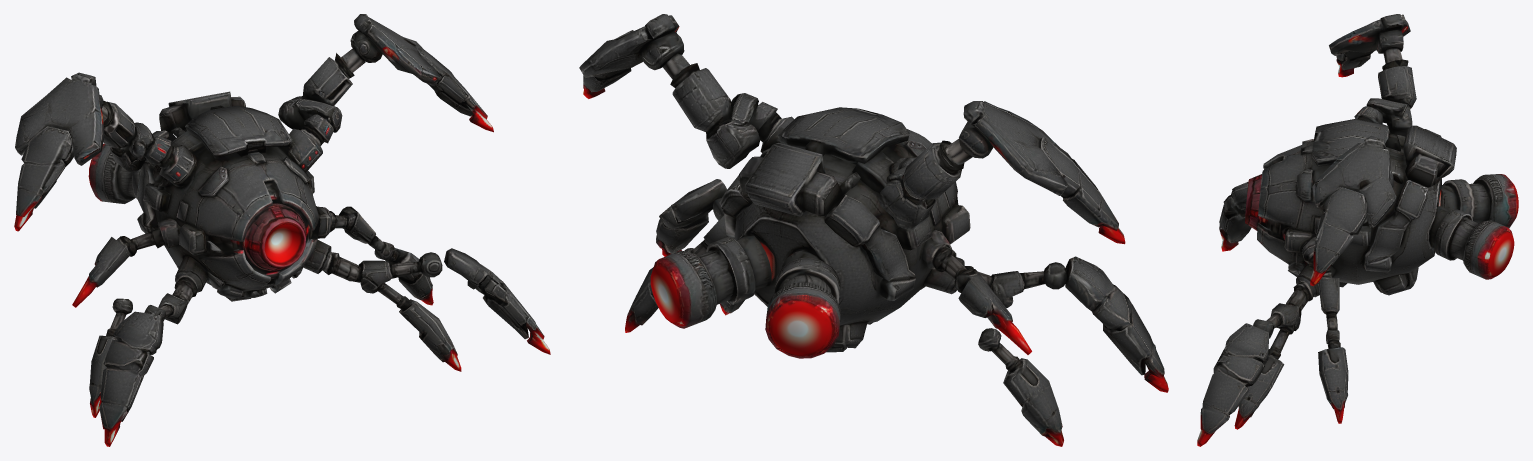
Rendered from drone.glb.
3 views of the same model, side by side, from view 1: azimuth 30°, elevation 25°; view 2: azimuth 150°, elevation 25°; view 3: azimuth 270°, elevation 25° (orthographic). The views are drawn at different scales.
Visible parts, largest first — view 1: tripo_node_e7bc2fcc-5555-41ec-90af-af07f182e4e9; view 2: tripo_node_e7bc2fcc-5555-41ec-90af-af07f182e4e9; view 3: tripo_node_e7bc2fcc-5555-41ec-90af-af07f182e4e9.
Boxes of the visible parts, x1,y1,x2,y2 form: tripo_node_e7bc2fcc-5555-41ec-90af-af07f182e4e9: (14, 14, 550, 446); tripo_node_e7bc2fcc-5555-41ec-90af-af07f182e4e9: (579, 14, 1168, 446); tripo_node_e7bc2fcc-5555-41ec-90af-af07f182e4e9: (1197, 14, 1518, 446).
Bounding box in the file's own units: 0.9995 × 0.6313 × 0.6519.
1 material, 1 textured.
